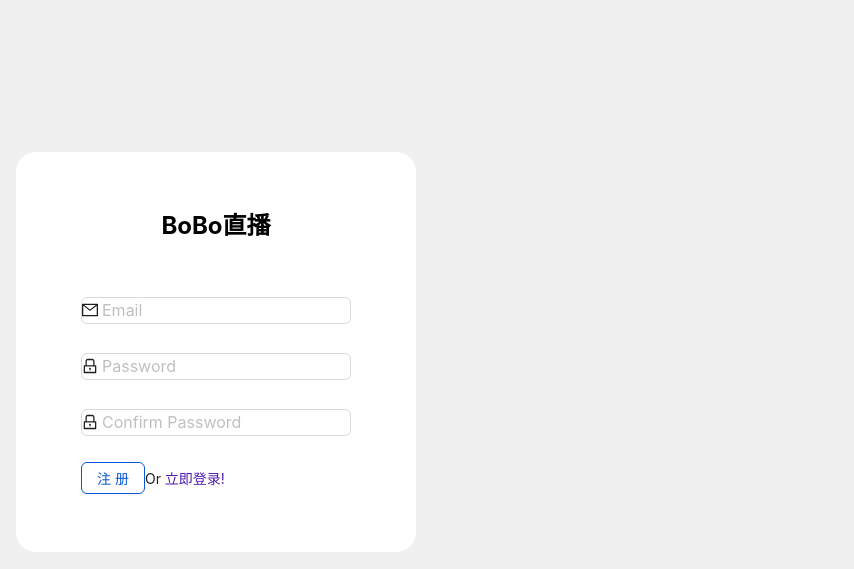
Scenario: 用户登录注册流程 › 注册两次密码不一致
The width and height of the screenshot is (854, 569).
Type "test@test.com" into the field with placeholder "Email" at x=226, y=311, box [102,298,350,323]
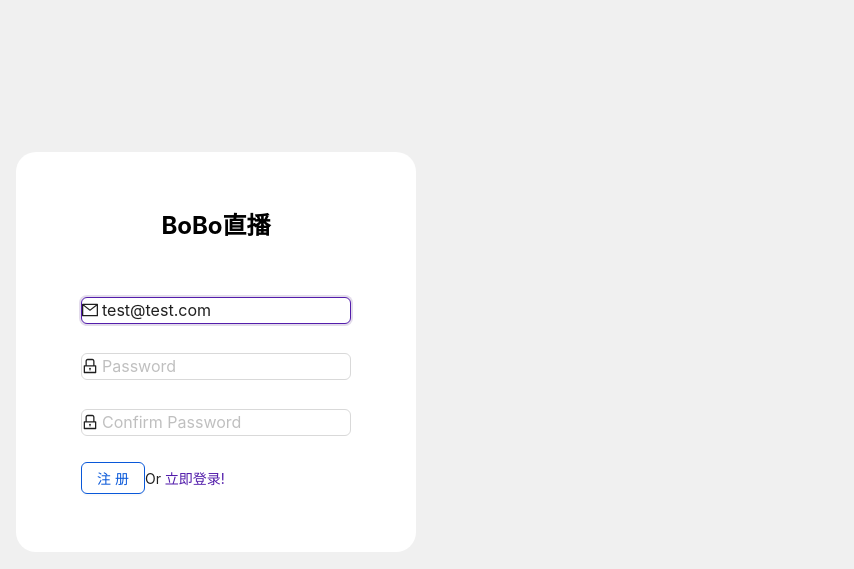
Type "1" into the password field with placeholder "Password" at x=226, y=367, box [102,354,350,379]
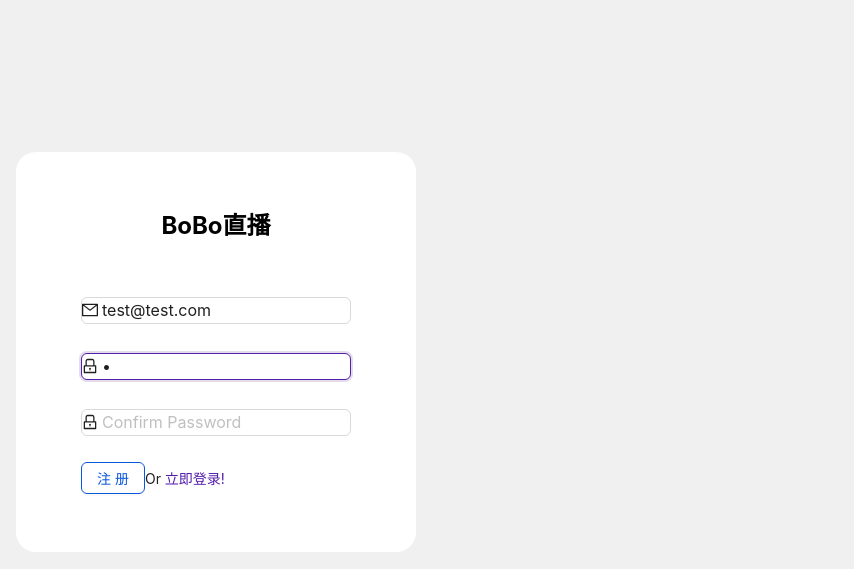
Type "11" into the password field with placeholder "Confirm Password" at x=226, y=423, box [102,410,350,435]
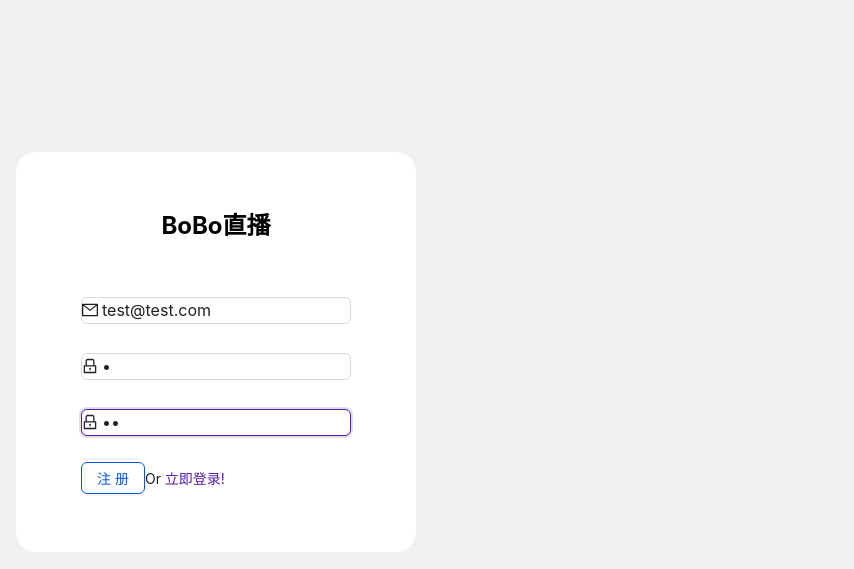
Click the button "注 册" at x=113, y=478, box [81,462,145,494]
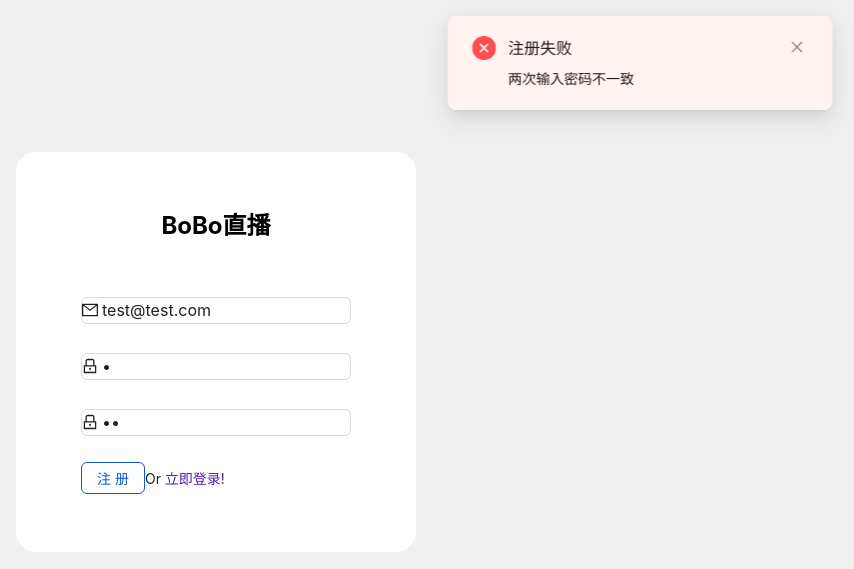
Expected: the text "两次输入密码不一致" is shown, [508,70,634,87]
